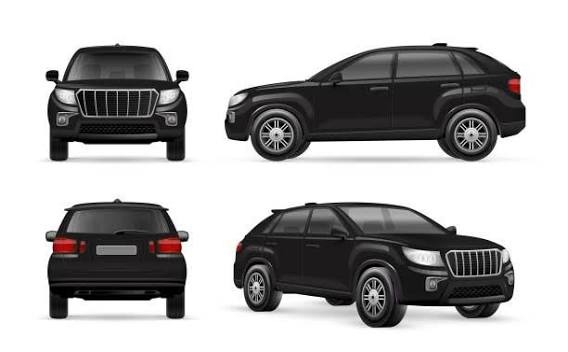car: (241, 43, 528, 164), (234, 198, 513, 320), (43, 197, 192, 317), (42, 41, 191, 161)
